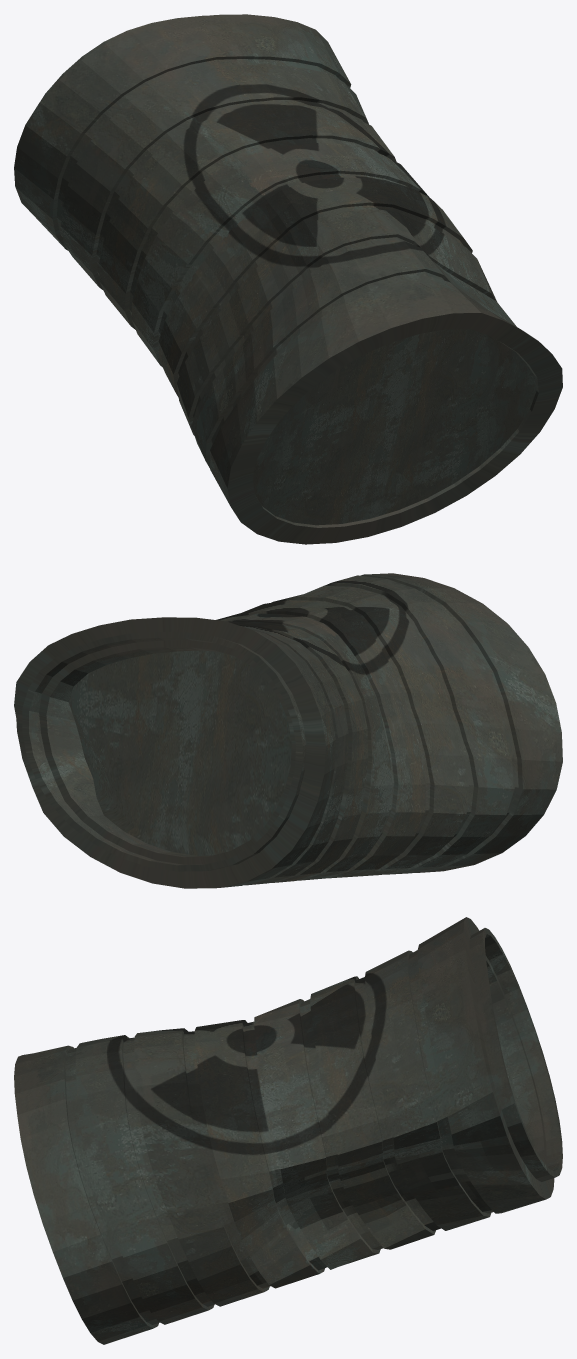
File: varil .fbx
3 views of the same model, one above another, from view 1: azimuth 30°, elevation 25°; view 2: azimuth 150°, elevation 25°; view 3: azimuth 270°, elevation 25° (orthographic). The views are drawn at different scales.
Parts seen in each view (by area): view 1: Cylinder.001; view 2: Cylinder.001; view 3: Cylinder.001.
Boxes of the visible parts, box(x1,y1,x2,y2) form: Cylinder.001: box(14, 14, 562, 544); Cylinder.001: box(14, 573, 562, 888); Cylinder.001: box(14, 917, 562, 1344).
Bounding box in the file's own units: 196 × 219 × 290.
Materials: 1 (1 with a texture image).
